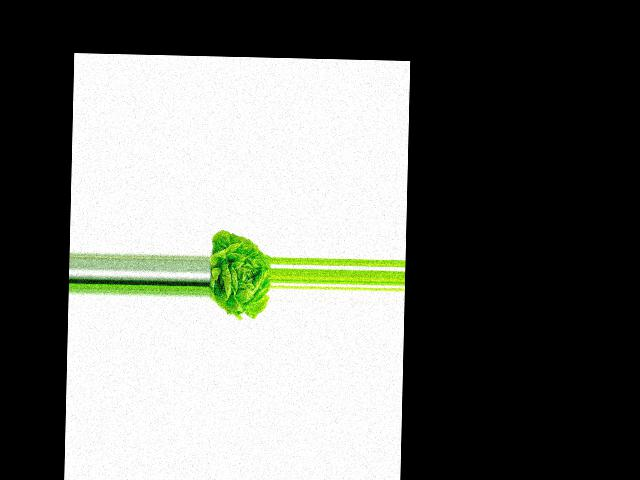lettuce: (208, 228, 271, 317)
